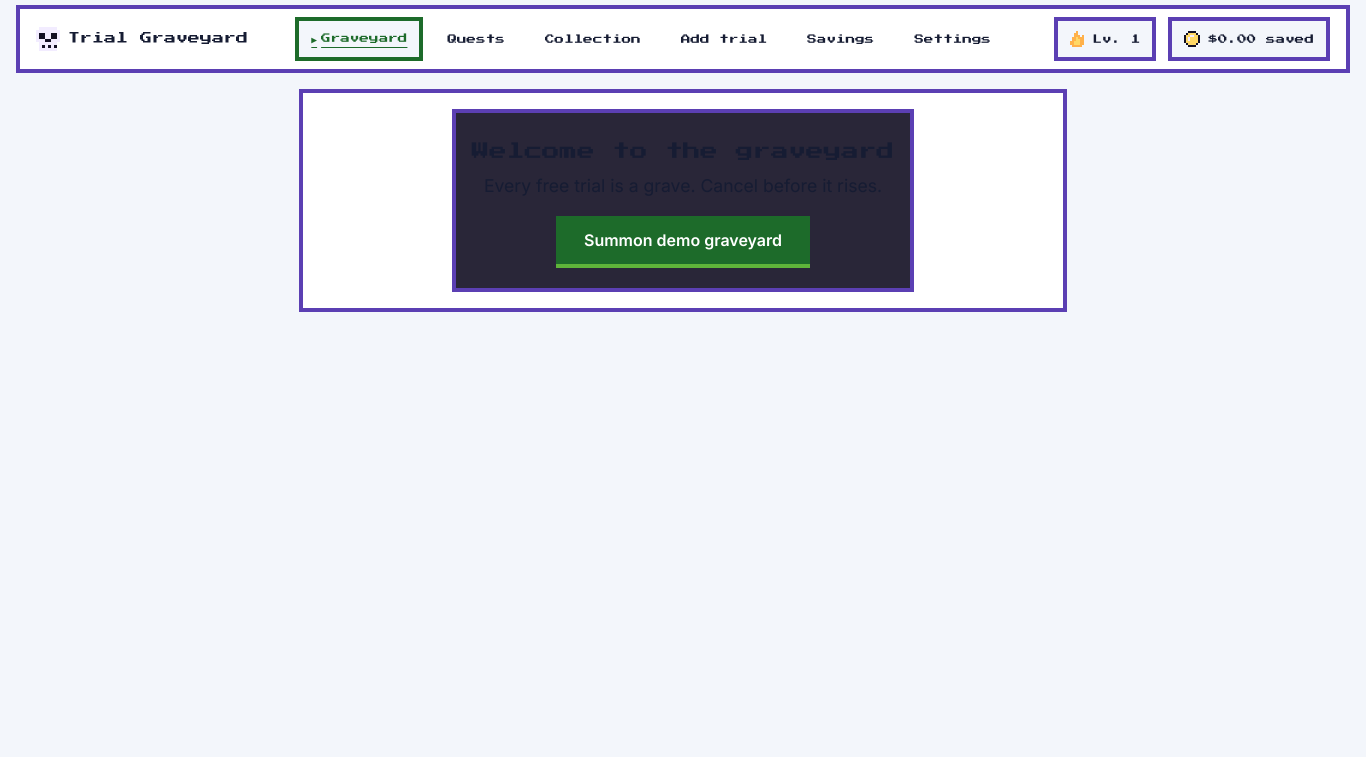
App end to end in the list view › disables Cancel now with an explanation when there is no URL
This screenshot has width=1366, height=757.
Click the button "Add trial": click(724, 39) [665, 17, 783, 61]
(page scrolled)
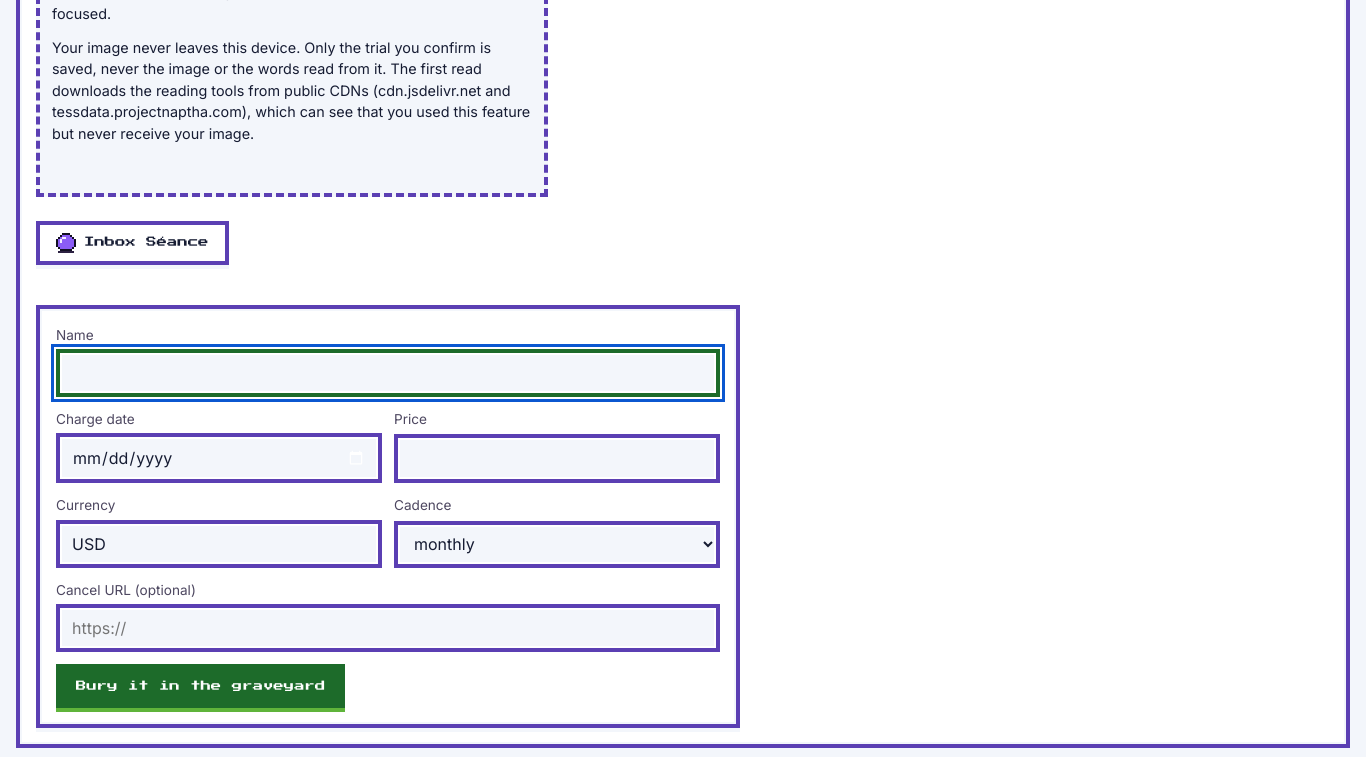
In the field labelled "Name": (388, 373) [56, 349, 720, 397], type "Hexlingo"
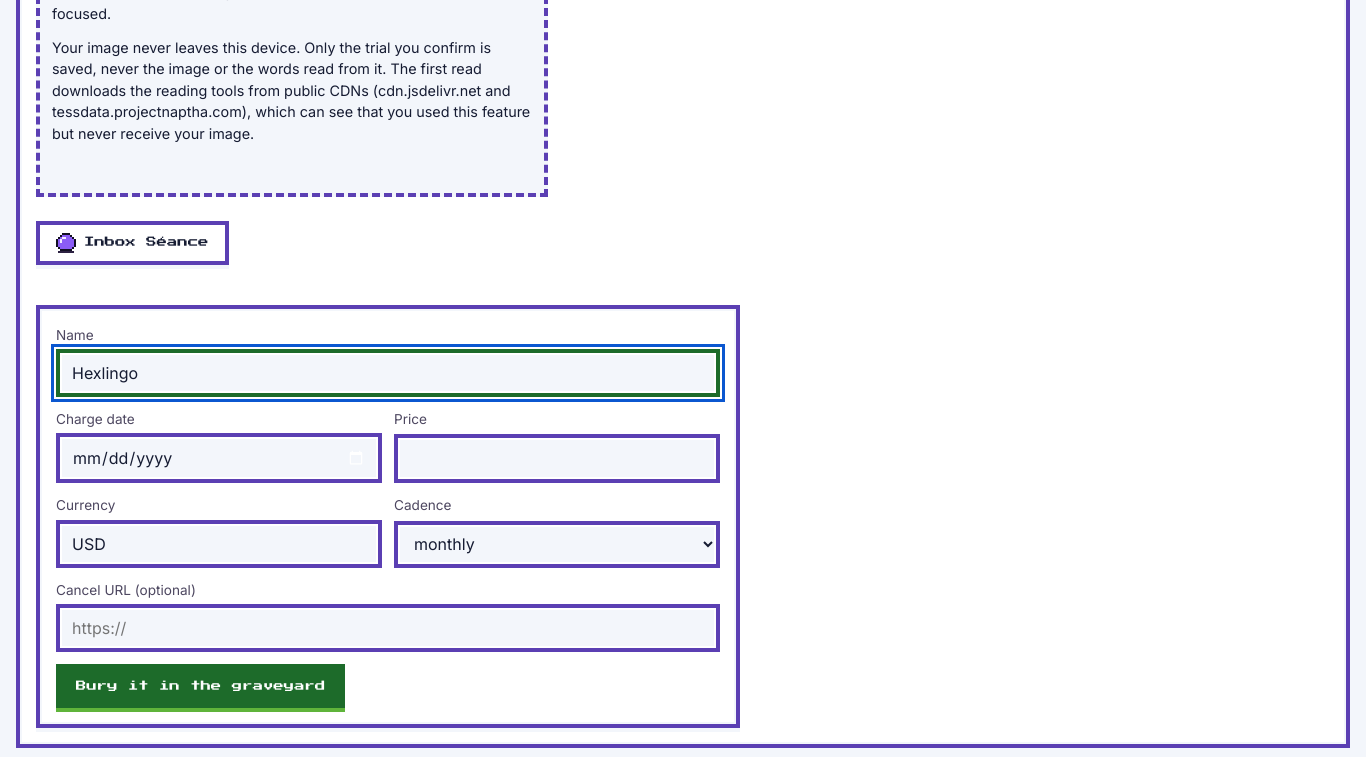
In the date field labelled "Charge date": (219, 458) [56, 433, 382, 483], type "2026-10-20"
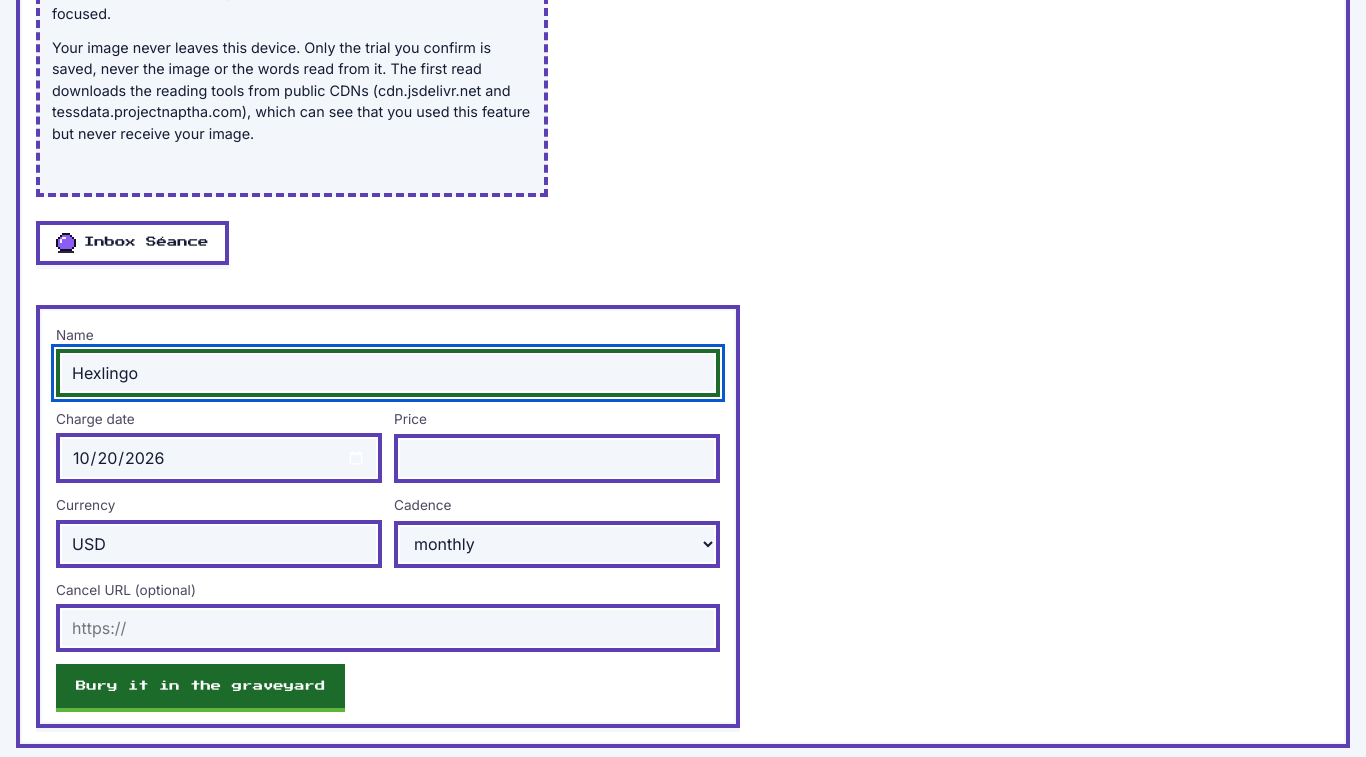
In the field labelled "Price": (557, 459) [394, 434, 720, 483], type "7.99"
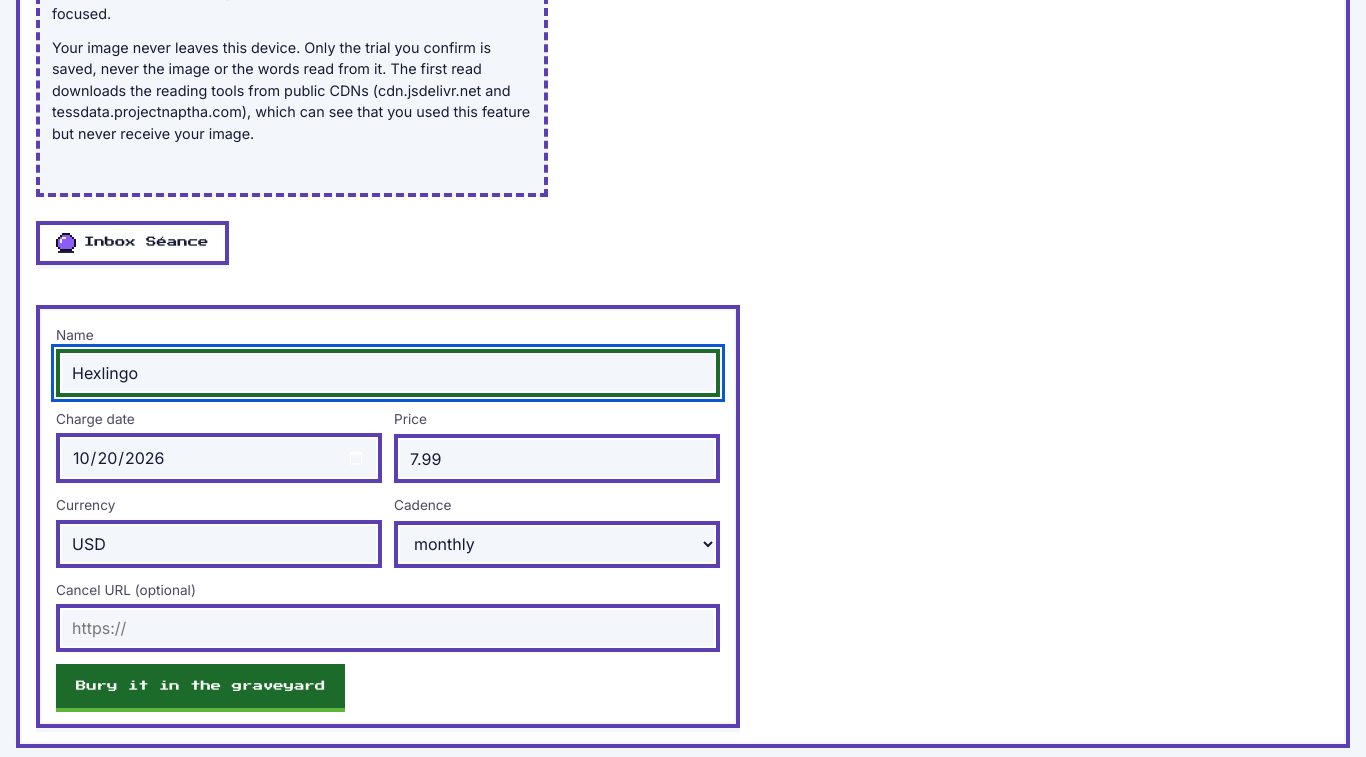
Click the button "Bury it in the graveyard": click(201, 686) [56, 664, 345, 708]
(page scrolled)
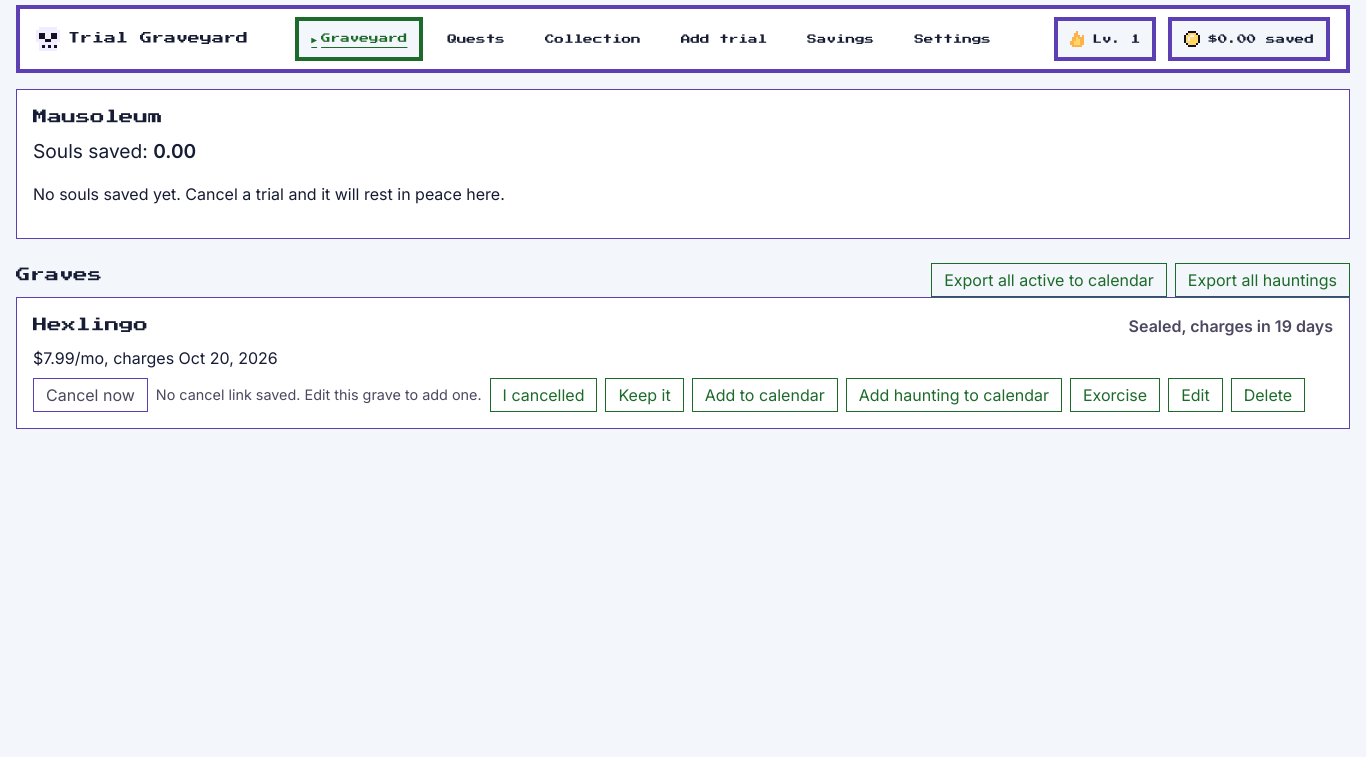
Expected: the button "Cancel now" is disabled, [33, 378, 148, 412]
